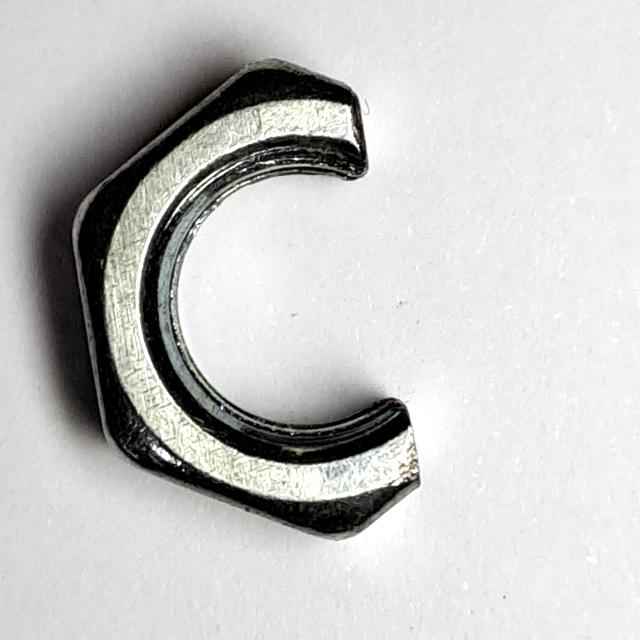Fracture: (60, 47, 479, 550)
